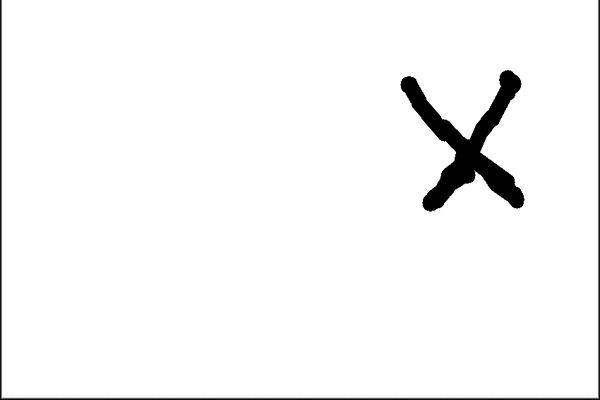X: (379, 54, 542, 217)
